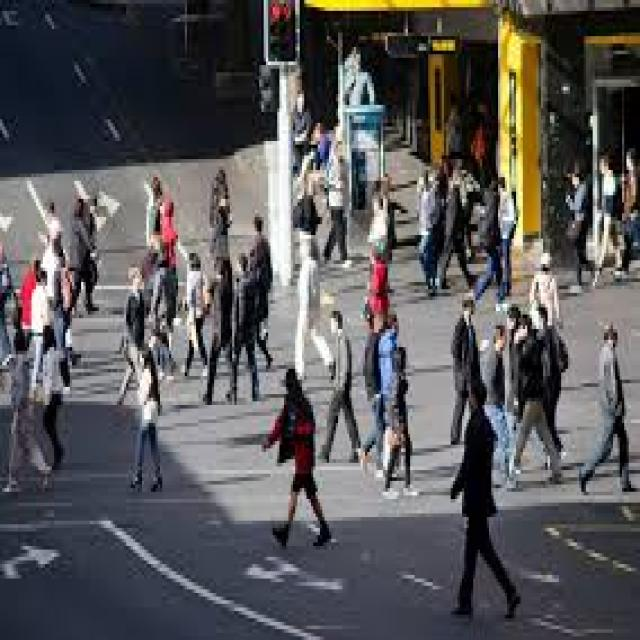Pedestrians: (449, 380, 525, 622), (257, 365, 333, 550)
